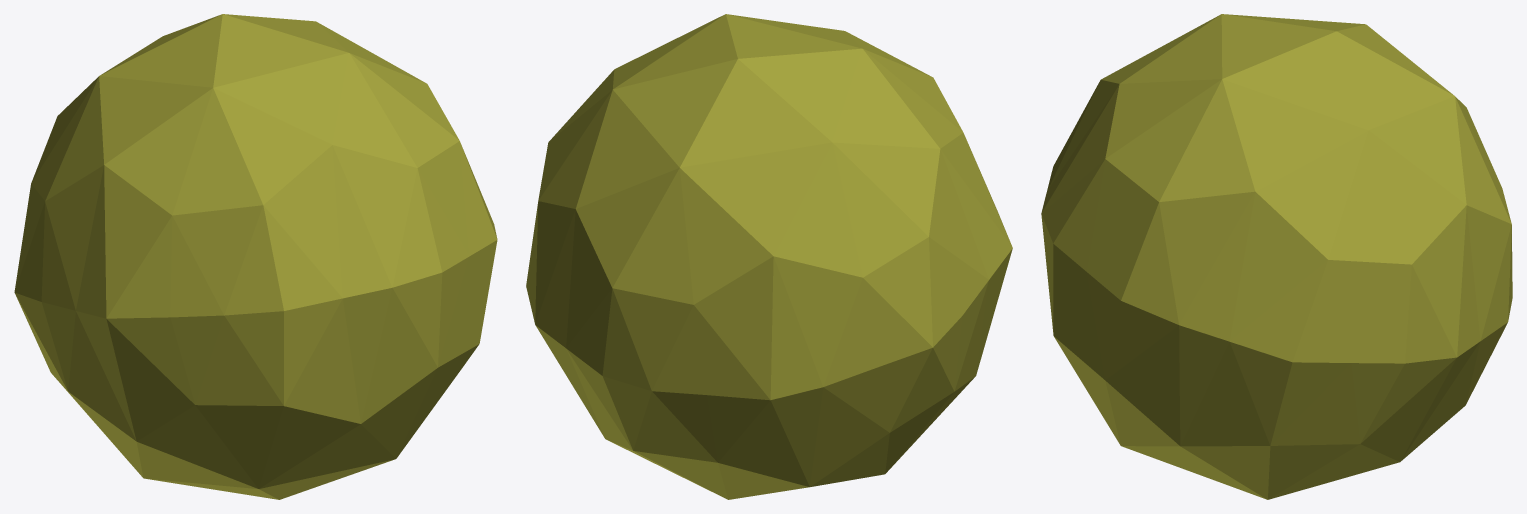
File: vGem5_New.fbx
3 renders of one model, left to right at view 1: azimuth 30°, elevation 25°; view 2: azimuth 150°, elevation 25°; view 3: azimuth 270°, elevation 25°, orthographic.
Parts seen in each view (by area): view 1: pCylinder5; view 2: pCylinder5; view 3: pCylinder5.
Part boxes in pixels (x1,y1,x2,y2): pCylinder5: (14,14,497,499); pCylinder5: (526,14,1012,499); pCylinder5: (1041,14,1512,499).
Bounding box in the file's own units: 0.809 × 0.8057 × 0.7775.
